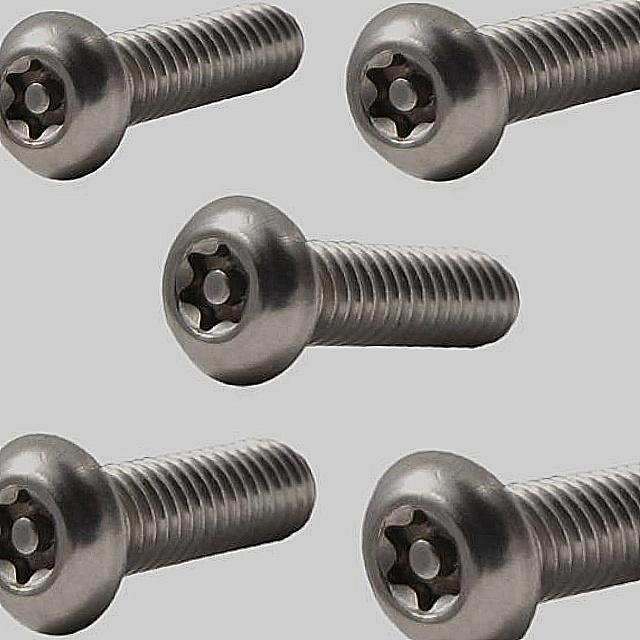torx: (356, 444, 542, 640), (341, 0, 514, 185), (160, 195, 317, 391), (0, 428, 123, 640), (0, 6, 126, 179)
